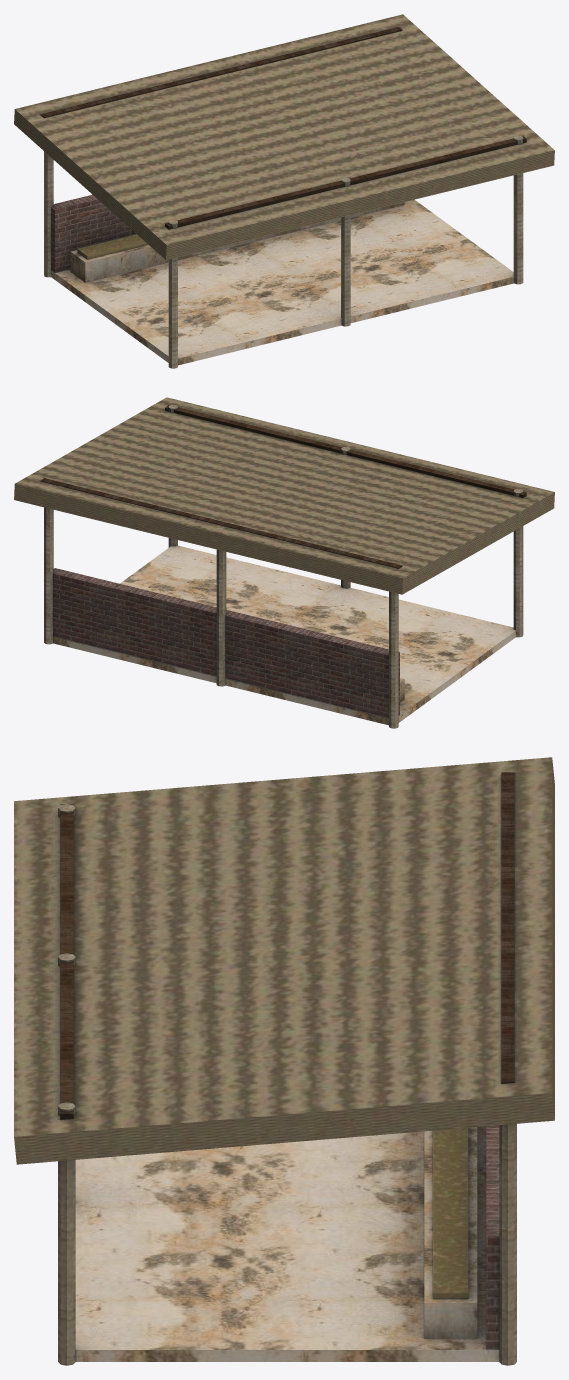
Rendered from cowshed.glb.
3 views of the same model, one above another, from view 1: azimuth 30°, elevation 25°; view 2: azimuth 150°, elevation 25°; view 3: azimuth 270°, elevation 25° (orthographic). The views are drawn at different scales.
Visible parts, largest first — view 1: cowshed; view 2: cowshed; view 3: cowshed.
Part boxes in pixels (x1,y1,x2,y2): cowshed: (14, 14, 554, 368); cowshed: (14, 397, 554, 728); cowshed: (14, 757, 554, 1365).
Size of the model in its own units: 9 by 3.6 by 6.13.
1 material, 1 textured.
